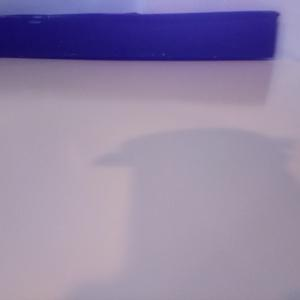zone: (1, 11, 280, 60)
